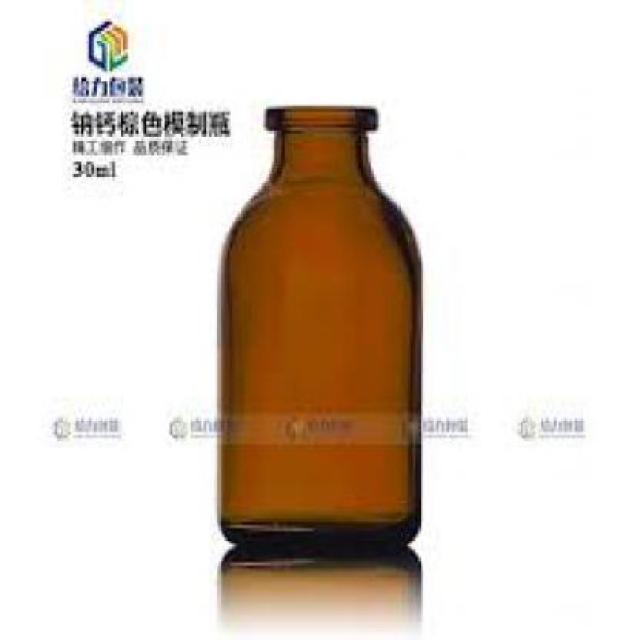kaca: (214, 103, 415, 554)
